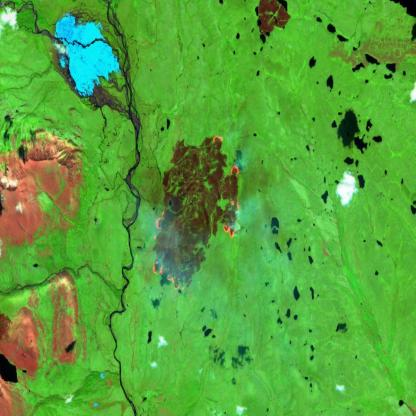fire: (149, 127, 244, 294)
